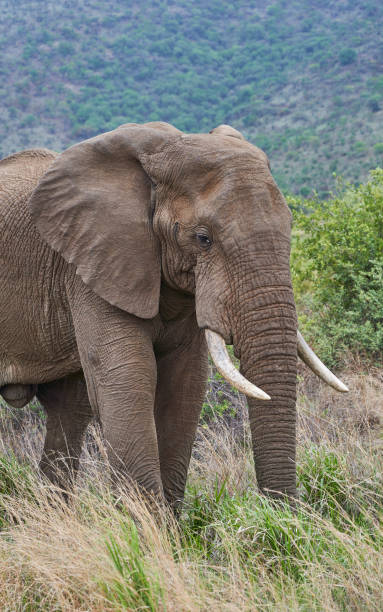africanelephant: (131, 137, 350, 439)
